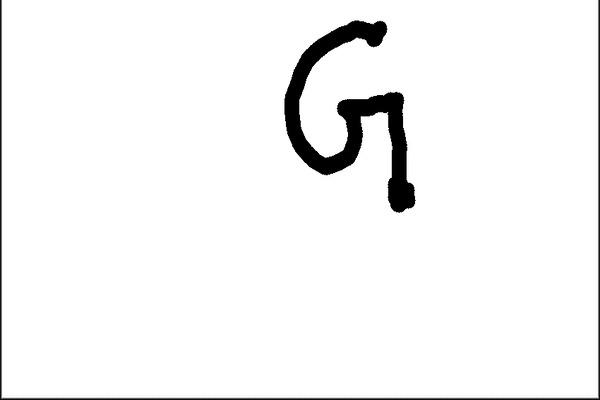G: (278, 8, 420, 219)
